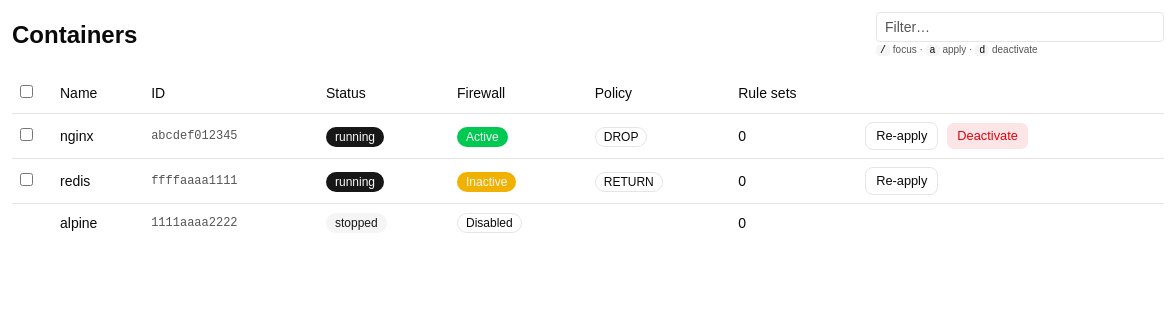
Test: ContainersPage bulk selection › selects all visible non-disabled rows when the header checkbox is toggled
The width and height of the screenshot is (1176, 312).
expect the text "nginx" is shown: met, box [52,114,143,158]
Click the checkbox named "Select all visible" at point(26, 92), box [20,85,33,98]
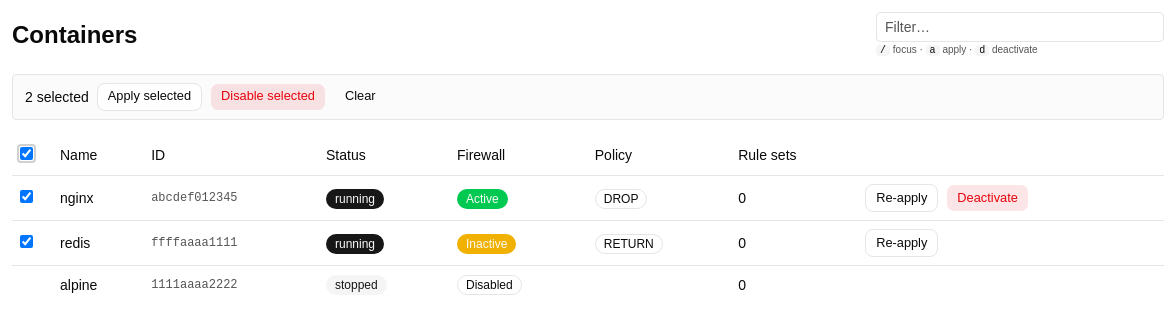
expect the checkbox named "Deselect all" is checked: met, box [20,147,33,160]
expect the text "2 selected" is shown: met, box [25,86,89,106]
